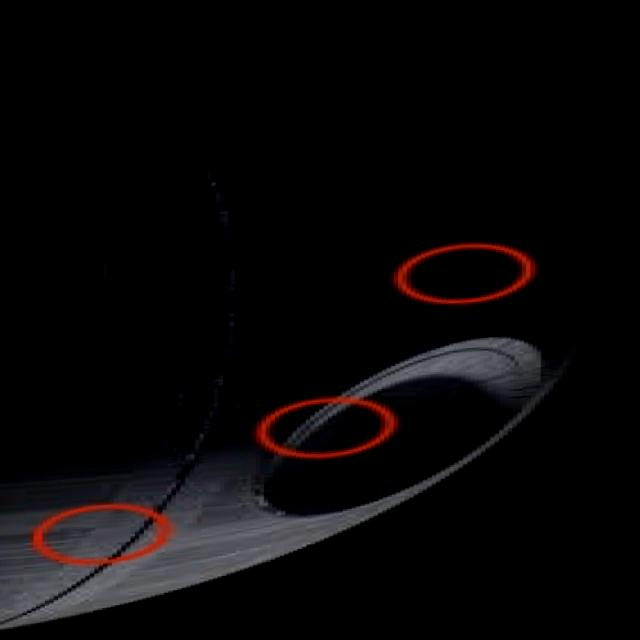deathStar: (0, 50, 595, 639)
